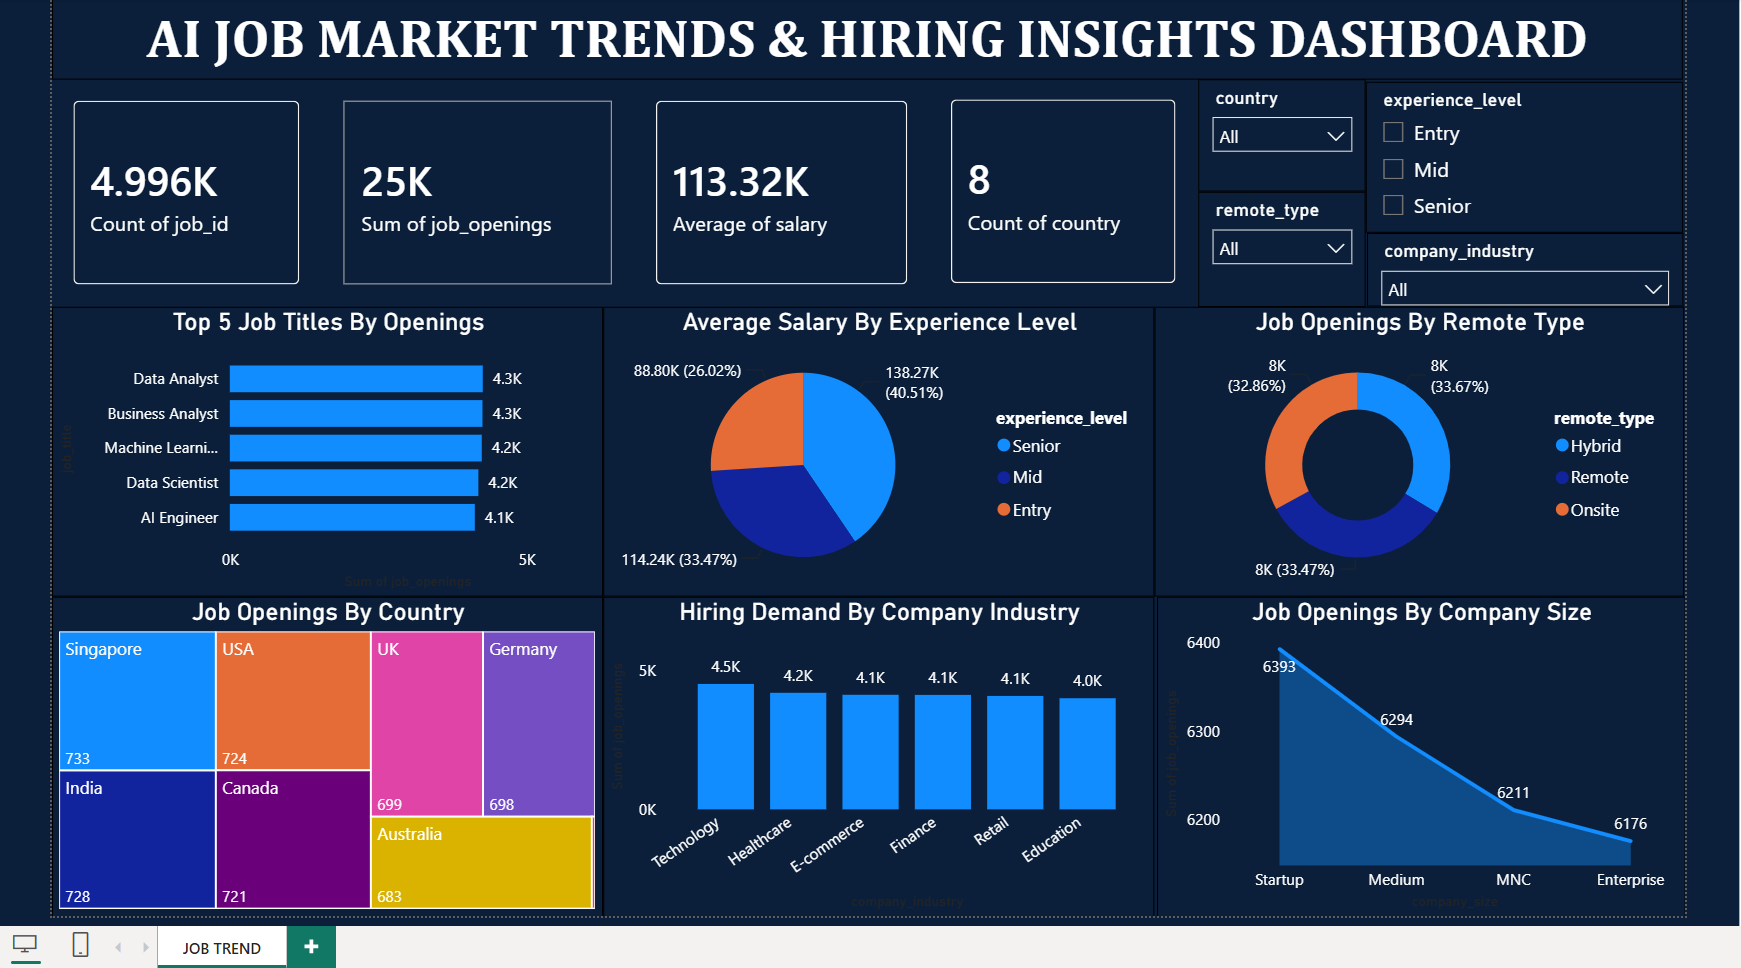

This screenshot's page, from the dashboard's own definition file:
{"tool":"powerbi","page":{"name":"IT JOB TREND","canvas":[1280,720],"ordinal":0},"visuals":[{"type":"clusteredBarChart","title":"Top 5 Job Titles By Openings","fields":{"Y":["Sum(AI job trends.job_openings)"],"Category":["AI job trends.job_title"]},"box":[0,242,432.1,227.3],"z":0},{"type":"donutChart","title":"Job Openings By Remote Type","fields":{"Category":["AI job trends.remote_type"],"Y":["Sum(AI job trends.job_openings)"]},"box":[864.2,242,415.5,227.3],"z":2000},{"type":"treemap","title":"Job Openings By Country","fields":{"Group":["AI job trends.country"],"Values":["CountNonNull(AI job trends.job_id)"]},"box":[432.6,241.9,431.4,227.9],"z":3000},{"type":"columnChart","title":"Hiring Demand By Company Industry","fields":{"Category":["AI job trends.company_industry"],"Y":["Sum(AI job trends.job_openings)"]},"box":[0,469.8,668.6,250],"z":4000},{"type":"areaChart","title":"Job Openings By Company Size","fields":{"Category":["AI job trends.company_size"],"Y":["Sum(AI job trends.job_openings)"]},"box":[668.6,469.8,611.6,250],"z":5000},{"type":"cardVisual","fields":{"Data":["CountNonNull(AI job trends.job_id)"]},"box":[0,63.7,211.7,178.3],"z":6000},{"type":"cardVisual","fields":{"Data":["Sum(AI job trends.job_openings)"]},"box":[211.7,63.7,245,178.3],"z":7000},{"type":"cardVisual","fields":{"Data":["Avg(AI job trends.salary)"]},"box":[456.6,63.7,231.2,178.3],"z":8000},{"type":"cardVisual","fields":{"Data":["Count(AI job trends.country)"]},"box":[687.8,62.6,210.5,178.6],"z":9000},{"type":"textbox","box":[0,0,1278.7,63.7],"z":10000},{"type":"slicer","fields":{"Values":["AI job trends.country"]},"box":[898.5,63.7,131.3,88.2],"z":11000},{"type":"slicer","fields":{"Values":["AI job trends.experience_level"]},"box":[1029.8,65.7,248.9,118.6],"z":12000},{"type":"slicer","fields":{"Values":["AI job trends.remote_type"]},"box":[898.8,152.3,131.4,89.5],"z":13000},{"type":"slicer","fields":{"Values":["AI job trends.company_industry"]},"box":[1030.8,184.2,247.9,57.8],"z":14000}]}

Visuals, with their boxes on the page's 1280x720 design canvas (x1, y1, x2, y2). These are canvas units, not pixel positions in the 1741x968 screenshot, which may show the page scaled, cropped or inside an application window:
"Top 5 Job Titles By Openings" clusteredBarChart: bbox=(0, 242, 432, 469)
"Job Openings By Remote Type" donutChart: bbox=(864, 242, 1280, 469)
"Job Openings By Country" treemap: bbox=(433, 242, 864, 470)
"Hiring Demand By Company Industry" columnChart: bbox=(0, 470, 669, 720)
"Job Openings By Company Size" areaChart: bbox=(669, 470, 1280, 720)
cardVisual - CountNonNull(AI job trends.job_id): bbox=(0, 64, 212, 242)
cardVisual - Sum(AI job trends.job_openings): bbox=(212, 64, 457, 242)
cardVisual - Avg(AI job trends.salary): bbox=(457, 64, 688, 242)
cardVisual - Count(AI job trends.country): bbox=(688, 63, 898, 241)
textbox: bbox=(0, 0, 1279, 64)
slicer - AI job trends.country: bbox=(898, 64, 1030, 152)
slicer - AI job trends.experience_level: bbox=(1030, 66, 1279, 184)
slicer - AI job trends.remote_type: bbox=(899, 152, 1030, 242)
slicer - AI job trends.company_industry: bbox=(1031, 184, 1279, 242)
